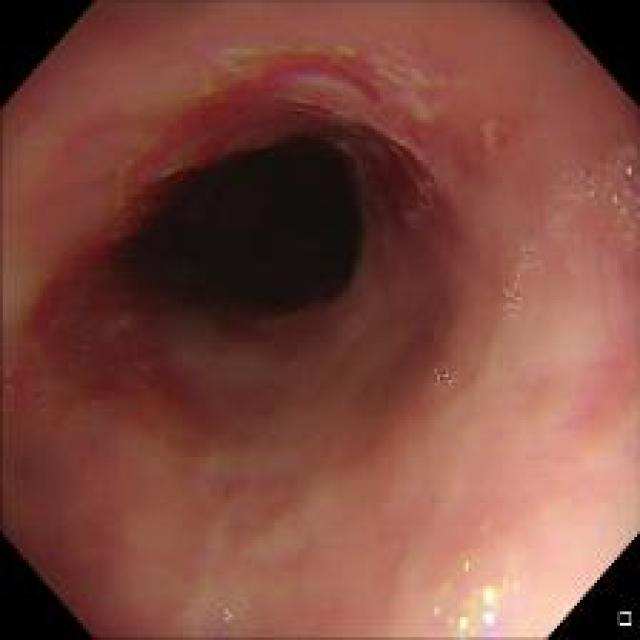bubbles: (604, 138, 639, 246), (498, 236, 536, 320), (576, 164, 599, 195), (428, 366, 452, 386)
color misalignment: (205, 39, 451, 142), (211, 601, 235, 635), (622, 162, 638, 211)
contrast: (89, 109, 381, 354)
specularity: (476, 579, 494, 605), (480, 610, 496, 624), (458, 614, 470, 632)
